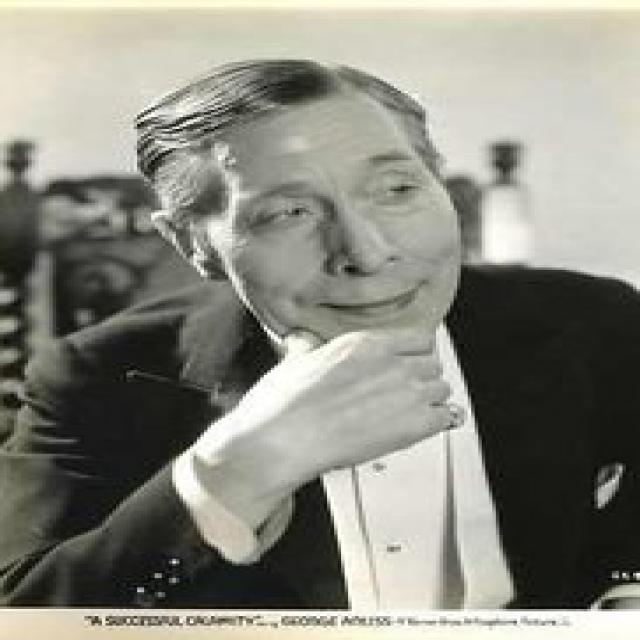picture: (2, 3, 640, 611)
